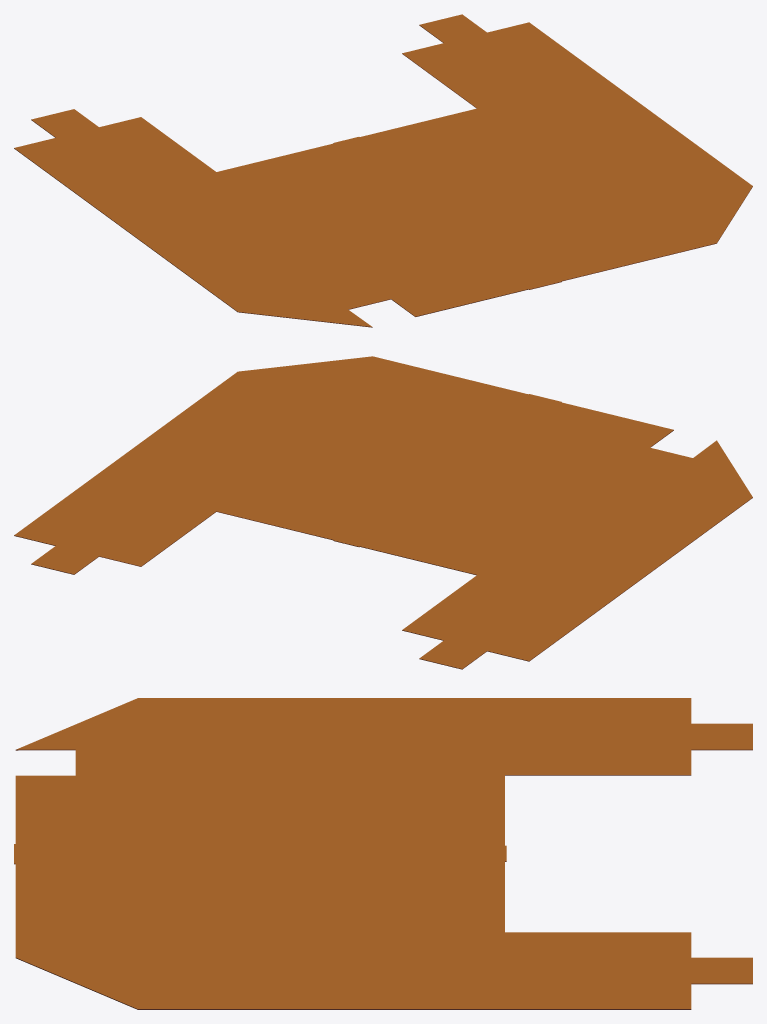
The model's file is SueloPB_UV.fbx.
3 views of the same model, one above another, from view 1: azimuth 30°, elevation 25°; view 2: azimuth 150°, elevation 25°; view 3: azimuth 270°, elevation 25° (orthographic). The views are drawn at different scales.
Parts seen in each view (by area): view 1: SueloPB_UV; view 2: SueloPB_UV; view 3: SueloPB_UV.
Boxes of the visible parts, x1,y1,x2,y2 form: SueloPB_UV: (14, 14, 752, 327); SueloPB_UV: (14, 356, 752, 669); SueloPB_UV: (14, 698, 752, 1009).
Bounding box in the file's own units: 4780 × 5 × 4800.
